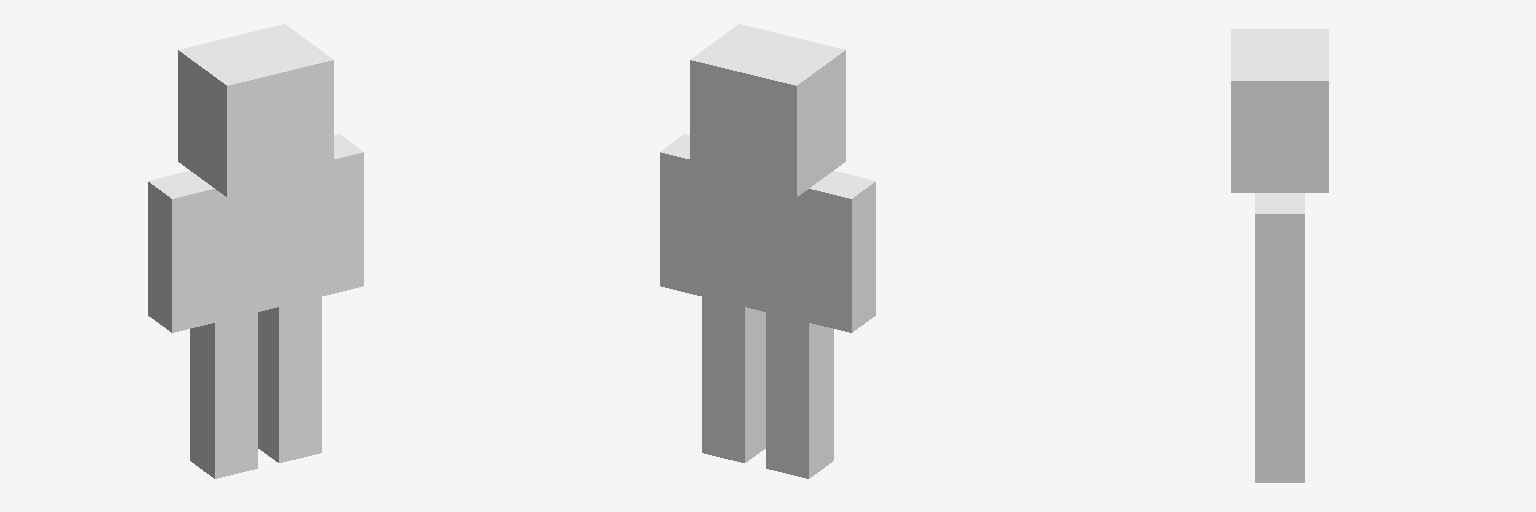
File: example.obj
The picture shows the model from 3 angles: view 1: azimuth 30°, elevation 25°; view 2: azimuth 150°, elevation 25°; view 3: azimuth 270°, elevation 25°; orthographic projection.
Parts seen in each view (by area): view 1: example; view 2: example; view 3: example.
Part boxes in pixels (left/top/right/bottom): example: left=148, top=24, right=363, bottom=478; example: left=660, top=24, right=875, bottom=478; example: left=1231, top=29, right=1328, bottom=482.
Bounding box in the file's own units: 9 × 18 × 4.